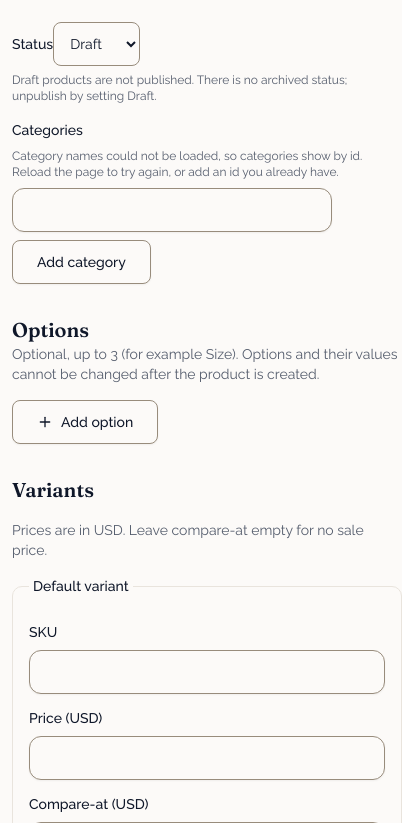
Test case: ProductCreateForm › builds one variant row per option combination
The width and height of the screenshot is (402, 823).
(page scrolled)
Click the button "Add option" at (85, 422), box x1=12 y1=400 x2=158 y2=444
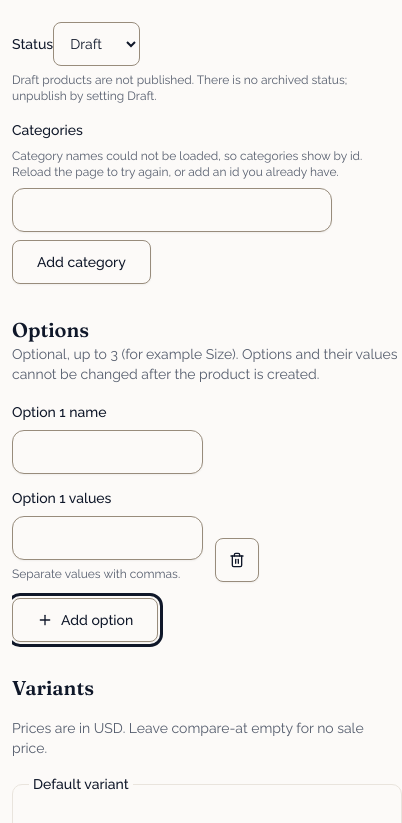
Type "Size" into the field labelled "Option 1 name" at (108, 452), box x1=12 y1=430 x2=203 y2=474
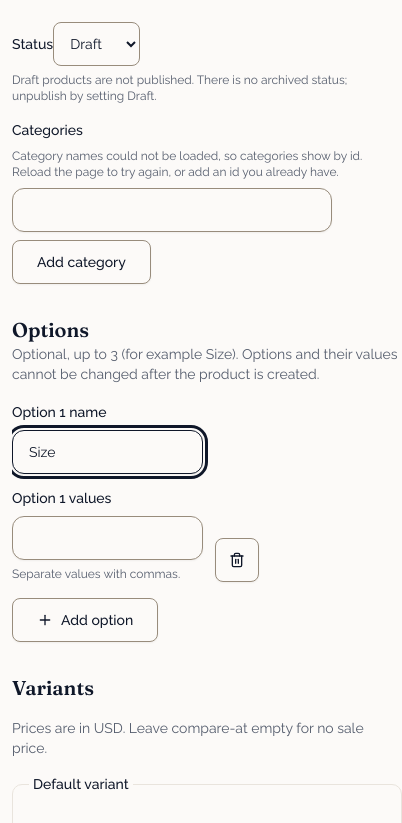
Type "S, M, L" into the field labelled "Option 1 values" at (108, 538), box x1=12 y1=516 x2=203 y2=560
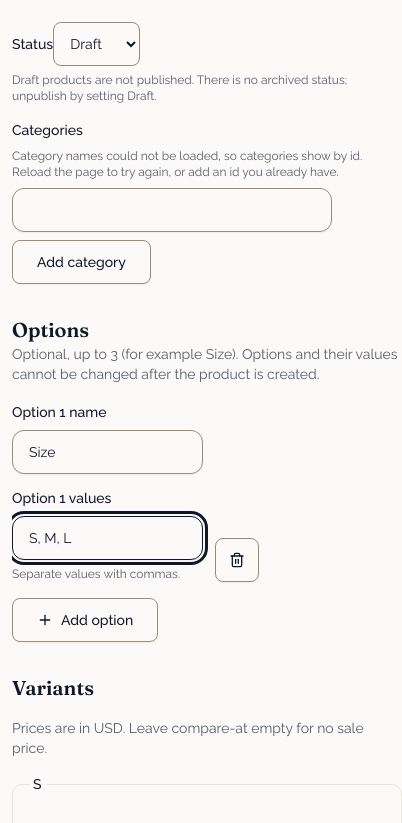
Check: the number of elements with test id "variant-row" is 3
